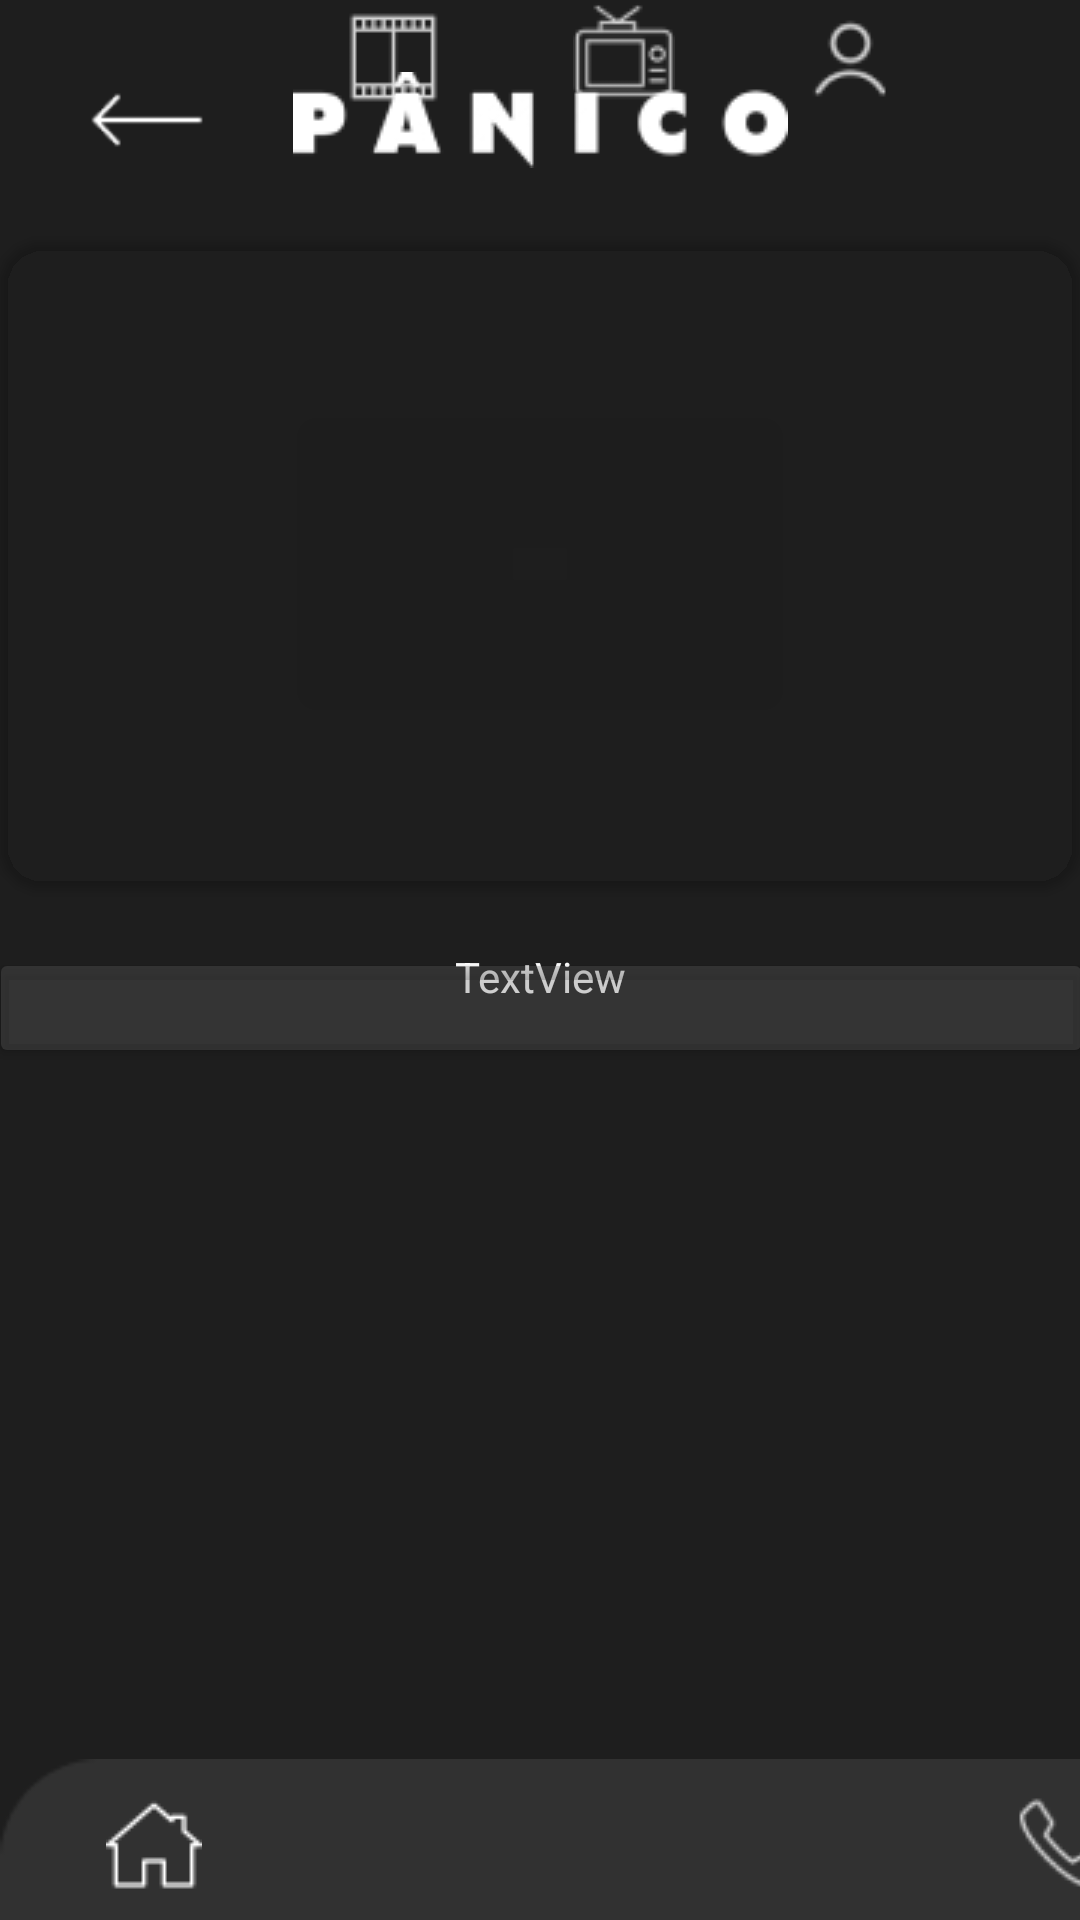

Icon bounding boxes for this 1080x1920 phone screenshot, format [x1,y1,x2,y2]:
casa: [106,1802,202,1889]
filmeicon: [333,14,437,114]
personicon: [815,21,886,96]
setaes: [91,94,203,146]
tvicon: [574,5,675,102]
